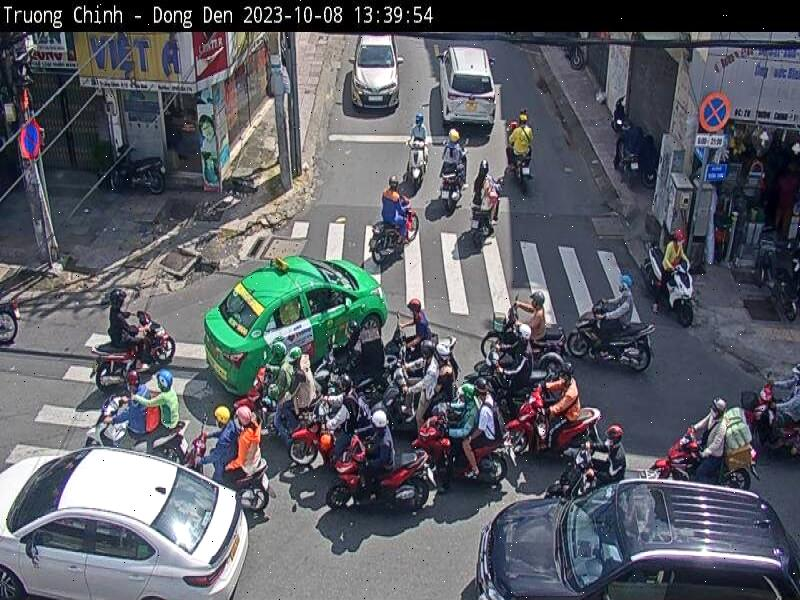car: (1, 445, 261, 599), (476, 483, 798, 600), (196, 260, 399, 388), (436, 44, 498, 143), (351, 36, 401, 115)
motorcycle: (324, 444, 442, 520), (184, 430, 278, 520), (76, 320, 176, 385), (566, 307, 658, 377), (504, 392, 604, 456), (639, 240, 696, 314), (110, 141, 171, 205), (737, 367, 777, 450), (614, 92, 644, 200), (646, 428, 702, 484), (753, 414, 800, 462), (363, 218, 416, 260), (666, 260, 701, 322), (482, 298, 520, 350), (285, 424, 324, 473), (538, 335, 578, 377), (724, 446, 762, 490), (636, 231, 662, 293), (396, 139, 431, 185), (500, 151, 538, 190), (0, 293, 25, 352), (462, 210, 490, 260), (436, 175, 466, 219), (356, 376, 395, 407), (382, 326, 411, 360), (314, 344, 338, 385)
